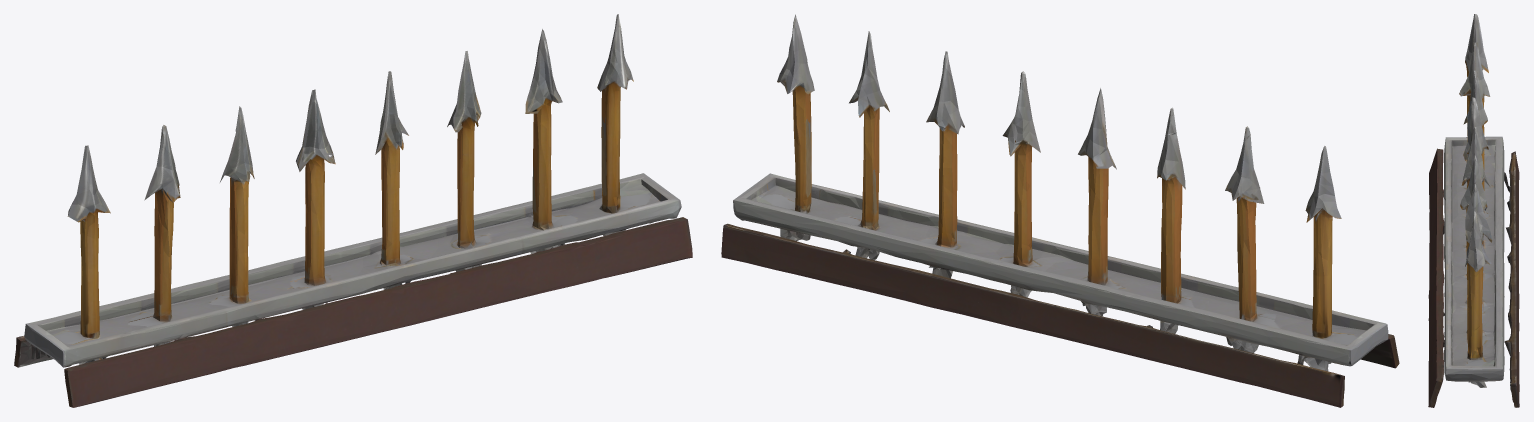
File: Spiked_Barrier_0521041244_texture.fbx
The picture shows the model from 3 angles, left to right: view 1: azimuth 30°, elevation 25°; view 2: azimuth 150°, elevation 25°; view 3: azimuth 270°, elevation 25°; orthographic projection. The views are drawn at different scales.
Visible parts, largest first — view 1: temp; view 2: temp; view 3: temp.
Part boxes in pixels (<box>): temp: <box>14,14,692,407</box>; temp: <box>721,14,1399,407</box>; temp: <box>1428,14,1519,407</box>.
Size of the model in its own units: 200 by 73.61 by 33.13.
1 material, 1 textured.
